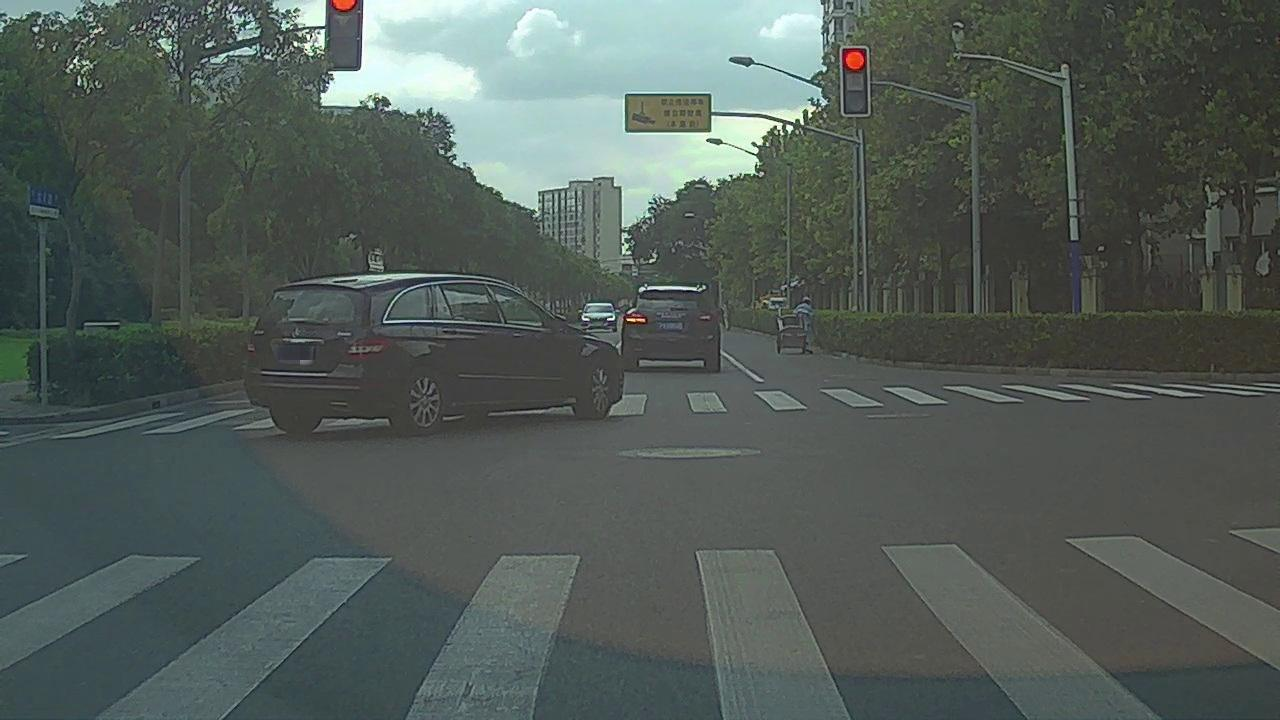traffic_light: (327, 1, 358, 69), (841, 48, 867, 114)
